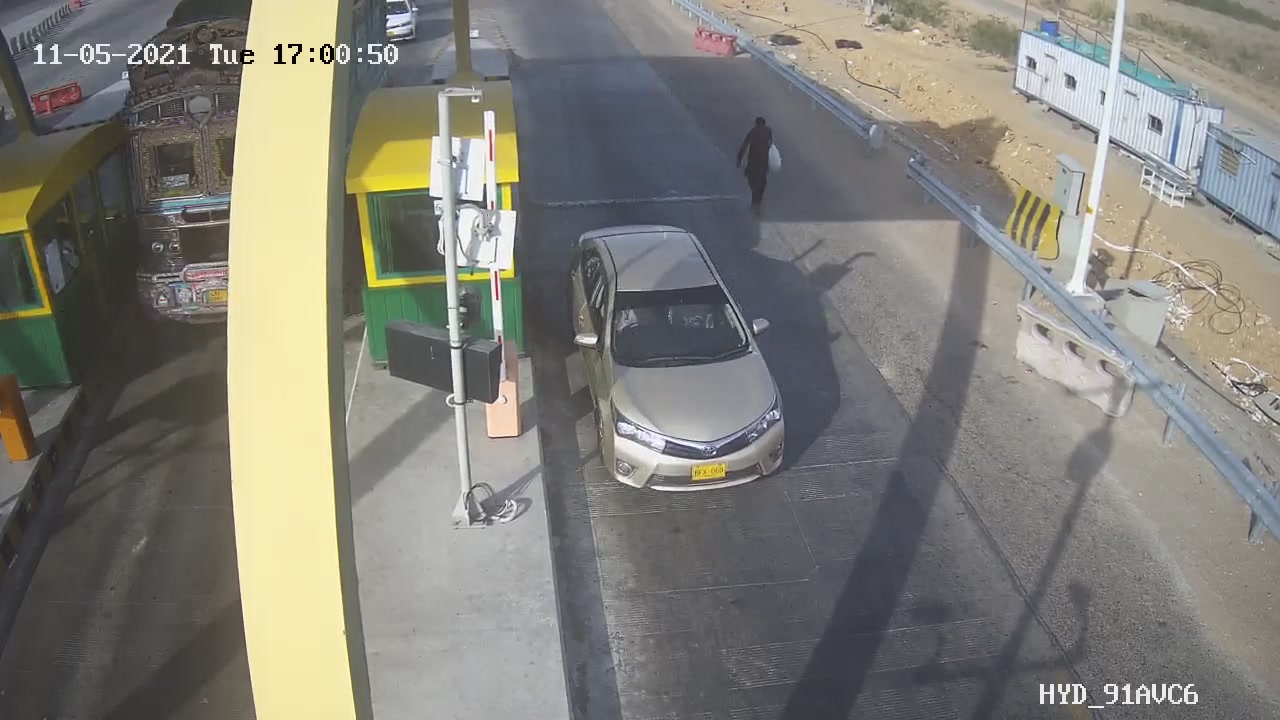F1: (544, 209, 821, 513)
